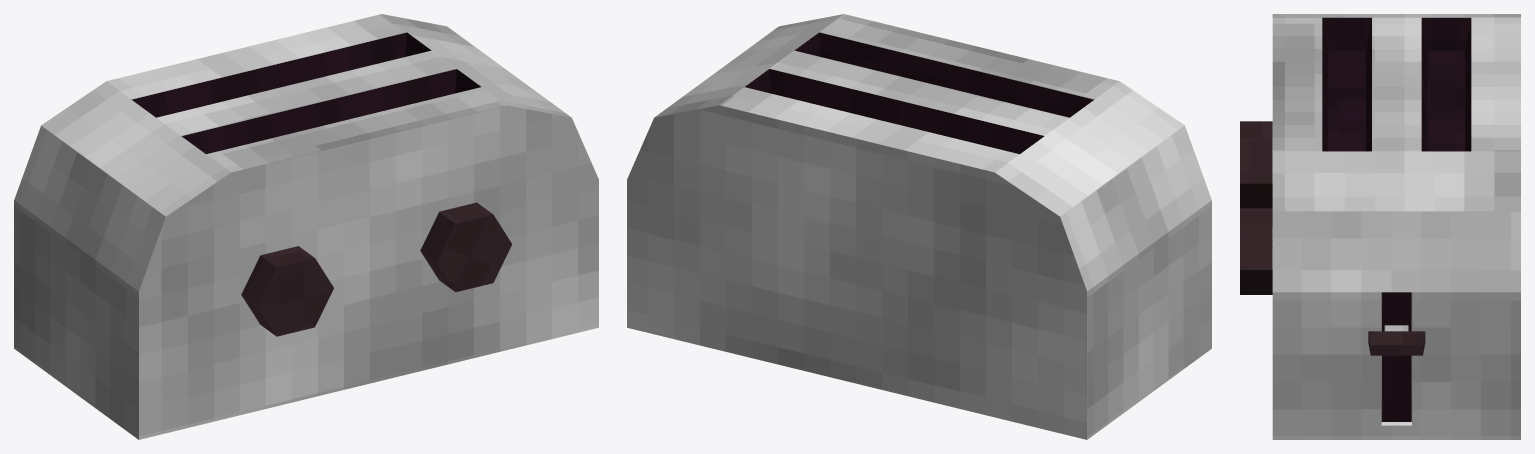
File: toaster.fbx
3 renders of one model, left to right at view 1: azimuth 30°, elevation 25°; view 2: azimuth 150°, elevation 25°; view 3: azimuth 270°, elevation 25°, orthographic.
Visible parts, largest first — view 1: toaster; view 2: toaster; view 3: toaster.
Part boxes in pixels (x1=…): toaster: x1=14, y1=14, x2=598, y2=439; toaster: x1=627, y1=14, x2=1211, y2=439; toaster: x1=1240, y1=14, x2=1520, y2=439.
Bounding box in the file's own units: 62.66 × 29.46 × 30.76.
1 material, 1 textured.
